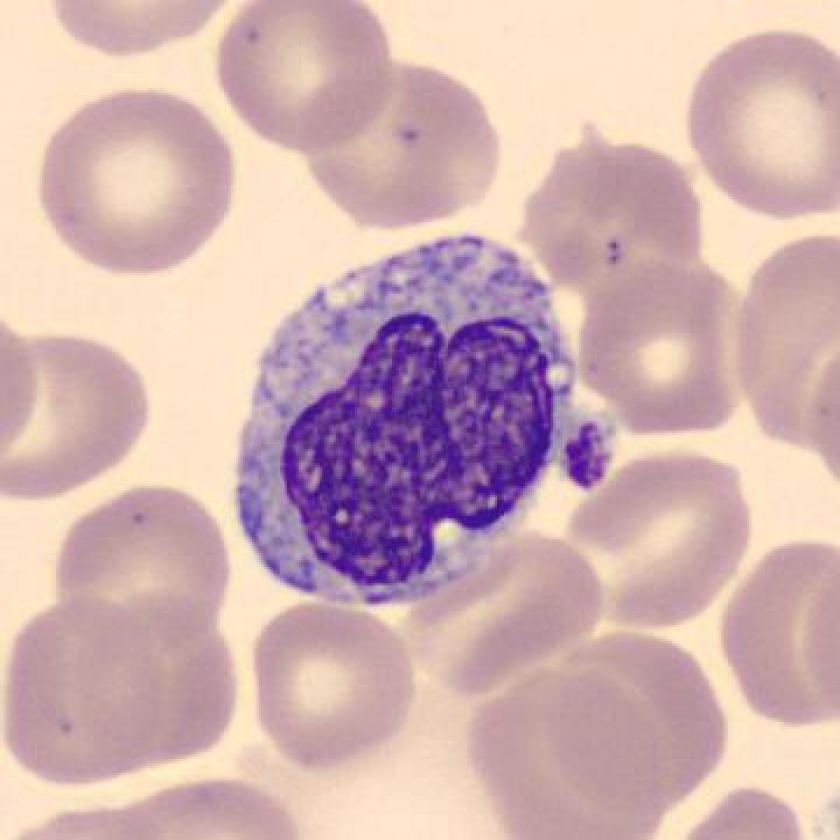monocyte: (223, 214, 596, 630)
